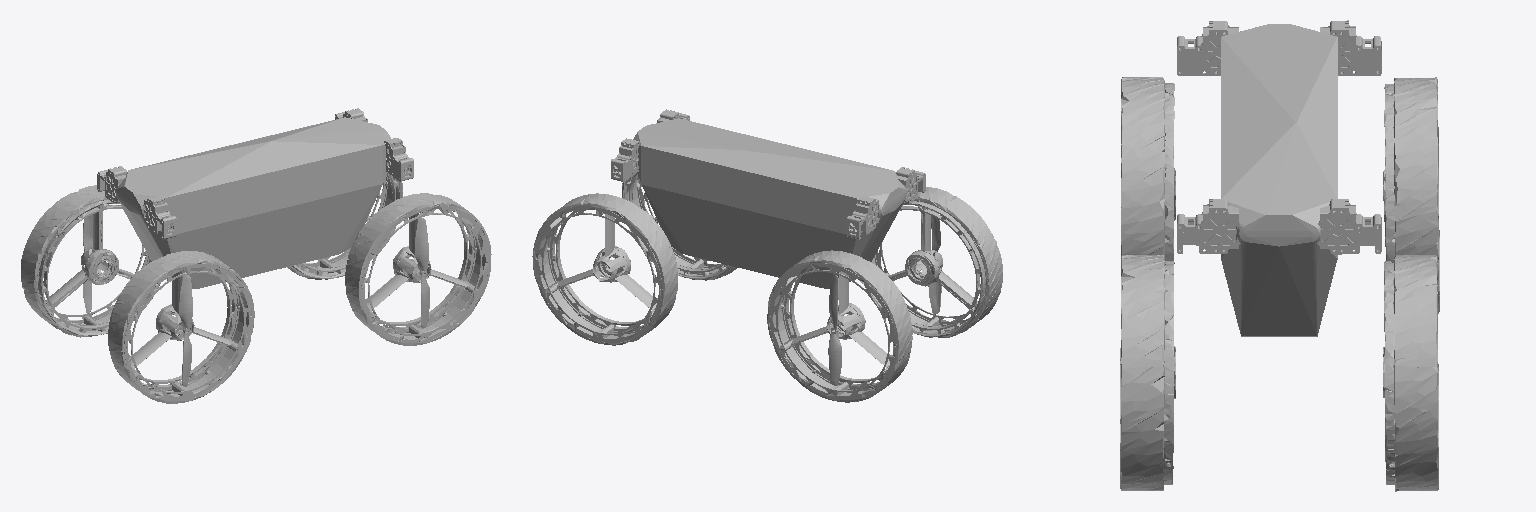
--- Render facts (derived) ---
3 views of the same robot in one strip: view 1: azimuth 30°, elevation 25°; view 2: azimuth 150°, elevation 25°; view 3: azimuth 270°, elevation 25° (orthographic).
Robot: m4assembly — 23 links, 22 joints (4 revolute, 8 continuous, 10 fixed); root link base_link; default pose: every joint at zero.
Visible links, largest first — view 1: base_link, rear_right_wheel, front_right_wheel, rear_left_wheel, front_left_wheel, rear_right_blade, front_right_blade, rear_right_hip, front_right_hip, rear_left_hip, rear_left_blade; view 2: base_link, front_left_wheel, rear_left_wheel, rear_right_wheel, front_right_wheel, rear_left_blade, rear_left_hip, front_left_hip, rear_right_hip, rear_right_blade; view 3: base_link, front_left_wheel, front_right_wheel, rear_left_wheel, rear_right_wheel, front_left_hip, front_right_hip, rear_left_hip, rear_right_hip.
Link boxes in pixels (<box>): base_link: <box>116,117,390,288</box>; rear_right_wheel: <box>108,251,254,403</box>; front_right_wheel: <box>345,193,491,345</box>; rear_left_wheel: <box>21,185,160,337</box>; front_left_wheel: <box>287,172,402,279</box>; rear_right_blade: <box>179,275,192,386</box>; front_right_blade: <box>415,217,429,327</box>; rear_right_hip: <box>143,196,176,239</box>; front_right_hip: <box>384,138,413,181</box>; rear_left_hip: <box>97,166,126,202</box>; rear_left_blade: <box>83,214,92,313</box>; base_link: <box>633,118,906,288</box>; front_left_wheel: <box>532,193,677,345</box>; rear_left_wheel: <box>767,250,912,402</box>; rear_right_wheel: <box>864,187,1002,337</box>; front_right_wheel: <box>622,173,737,280</box>; rear_left_blade: <box>828,274,841,385</box>; rear_left_hip: <box>846,196,879,239</box>; front_left_hip: <box>611,138,639,181</box>; rear_right_hip: <box>896,167,925,203</box>; rear_right_blade: <box>928,210,941,314</box>; base_link: <box>1221,24,1337,336</box>; front_left_wheel: <box>1383,255,1438,491</box>; front_right_wheel: <box>1120,255,1175,490</box>; rear_left_wheel: <box>1383,77,1439,313</box>; rear_right_wheel: <box>1121,77,1175,260</box>; front_left_hip: <box>1317,199,1381,254</box>; front_right_hip: <box>1177,199,1240,253</box>; rear_left_hip: <box>1320,20,1381,75</box>; rear_right_hip: <box>1177,21,1238,75</box>.
Bounding box of the posed robot: 0.6978 × 0.3389 × 0.3329 m (x, y, z).
12 mesh visuals loaded from 18 distinct referenced files (12 binary STL); not drawn: 7 (reference not matched to a file when rendering).

URDF robot description (m4assembly):
<?xml version="1.0" encoding="utf-8"?>
<!-- This URDF was automatically created by SolidWorks to URDF Exporter! Originally created by Stephen Brawner ([email redacted]) 
     Commit Version: 1.6.0-4-g7f85cfe  Build Version: 1.6.7995.38578
     For more information, please see http://wiki.ros.org/sw_urdf_exporter -->
<robot
  name="m4assembly">
  <link
    name="base_link">
    <inertial>
      <origin
        xyz="0.00014012 -1.2866E-05 -0.067235"
        rpy="0 0 0" />
      <mass
        value="1.054" />
      <inertia
        ixx="0.00066925"
        ixy="-1.7138E-07"
        ixz="8.4179E-07"
        iyy="0.0060916"
        iyz="-5.4732E-08"
        izz="0.006372" />
    </inertial>
    <visual>
      <origin
        xyz="0 0 0"
        rpy="0 0 0" />
      <geometry>
        <mesh
          filename="package://simulation_world/meshes/base_link.STL" />
      </geometry>
      <material
        name="">
        <color
          rgba="0.75294 0.75294 0.75294 1" />
      </material>
    </visual>
    <collision>
      <origin
        xyz="0 0 0"
        rpy="0 0 0" />
      <geometry>
        <mesh
          filename="package://simulation_world/meshes/col/base_link.STL" />
      </geometry>
    </collision>
  </link>
  <link
    name="rear_left_hip">
    <inertial>
      <origin
        xyz="0.032048263261567 0.00148857273521091 0.000801285389170403"
        rpy="0 0 0" />
      <mass
        value="0.0631744337027232" />
      <inertia
        ixx="1.00187470871694E-05"
        ixy="1.26346518144828E-06"
        ixz="-1.71088892144535E-13"
        iyy="1.47423630145446E-05"
        iyz="-3.33426314544602E-14"
        izz="2.18314090226691E-05" />
    </inertial>
    <visual>
      <origin
        xyz="0 0 0"
        rpy="0 0 0" />
      <geometry>
        <mesh
          filename="package://simulation_world/meshes/rear_left_hip.STL" />
      </geometry>
      <material
        name="">
        <color
          rgba="0.752941176470588 0.752941176470588 0.752941176470588 1" />
      </material>
    </visual>
    <collision>
      <origin
        xyz="0 0 0"
        rpy="0 0 0" />
      <geometry>
        <mesh
          filename="package://simulation_world/meshes/col/rear_left_hip.STL" />
      </geometry>
    </collision>
  </link>
  <joint
    name="rear_left_hip_joint"
    type="revolute">
    <origin
      xyz="-0.2231 0.0323 -0.02605"
      rpy="1.5708 -0.0099006 1.5708" />
    <parent
      link="base_link" />
    <child
      link="rear_left_hip" />
    <axis
      xyz="0 0 1" />
    <limit
      lower="0"
      upper="1.571"
      effort="10.5"
      velocity="1.57" />
  </joint>
  <link
    name="rear_left_leg">
    <inertial>
      <origin
        xyz="-3.41455978458693E-06 0.0865094820933296 -0.00425258484840052"
        rpy="0 0 0" />
      <mass
        value="0.208886814057311" />
      <inertia
        ixx="7.70084638154863E-05"
        ixy="9.13752456418355E-09"
        ixz="3.41558069671286E-07"
        iyy="5.22430908180149E-05"
        iyz="-3.49227338347394E-08"
        izz="5.21652155907927E-05" />
    </inertial>
    <visual>
      <origin
        xyz="0 0 0"
        rpy="0 0 0" />
      <geometry>
        <mesh
          filename="package://simulation_world/meshes/rear_left_leg.STL" />
      </geometry>
      <material
        name="">
        <color
          rgba="0.752941176470588 0.752941176470588 0.752941176470588 1" />
      </material>
    </visual>
    <collision>
      <origin
        xyz="0 0 0"
        rpy="0 0 0" />
      <geometry>
        <mesh
          filename="package://simulation_world/meshes/col/rear_left_leg.STL" />
      </geometry>
    </collision>
  </link>
  <joint
    name="rear_left_leg_joint"
    type="fixed">
    <origin
      xyz="0.0611 -0.006895 -5E-05"
      rpy="1.5708 -1.5526 1.5708" />
    <parent
      link="rear_left_hip" />
    <child
      link="rear_left_leg" />
    <axis
      xyz="0 0 -1" />
  </joint>
  <link
    name="rear_left_wheel">
    <inertial>
      <origin
        xyz="-1.2835011736767E-06 2.34490590667047E-07 -0.0298825868697071"
        rpy="0 0 0" />
      <mass
        value="0.447367748033206" />
      <inertia
        ixx="0.00104268899323013"
        ixy="-3.91603340525233E-08"
        ixz="3.60415118706037E-11"
        iyy="0.00104263881447407"
        iyz="-3.26123864995785E-11"
        izz="0.00200352361648073" />
    </inertial>
    <visual>
      <origin
        xyz="0 0 0"
        rpy="0 0 0" />
      <geometry>
        <mesh
          filename="package://simulation_world/meshes/rear_left_wheel.STL" />
      </geometry>
      <material
        name="">
        <color
          rgba="0.752941176470588 0.752941176470588 0.752941176470588 1" />
      </material>
    </visual>
    <collision>
      <origin
        xyz="0 0 0"
        rpy="0 0 0" />
      <geometry>
        <mesh
          filename="package://simulation_world/meshes/col/rear_left_wheel.STL" />
      </geometry>
    </collision>
  </link>
  <joint
    name="rear_left_wheel_joint"
    type="continuous">
    <origin
      xyz="0 0.162 0.011129"
      rpy="-3.1416 0 0.018227" />
    <parent
      link="rear_left_leg" />
    <child
      link="rear_left_wheel" />
    <axis
      xyz="0 0 -1" />
    <limit
      effort="200"
      velocity="200" />
  </joint>
  <link
    name="rear_left_blade">
    <inertial>
      <origin
        xyz="-3.30314530727627E-08 -8.23060748793014E-05 0.0082946342231609"
        rpy="0 0 0" />
      <mass
        value="0.00610274937825579" />
      <inertia
        ixx="4.75952063199721E-06"
        ixy="-3.96883337183772E-08"
        ixz="-3.93240380060884E-10"
        iyy="1.57361545543065E-07"
        iyz="-4.65846533883739E-08"
        izz="4.86189149512478E-06" />
    </inertial>
    <visual>
      <origin
        xyz="0 0 0"
        rpy="0 0 0" />
      <geometry>
        <mesh
          filename="package://simulation_world/meshes/rear_left_blade.STL" />
      </geometry>
      <material
        name="">
        <color
          rgba="0.752941176470588 0.752941176470588 0.752941176470588 1" />
      </material>
    </visual>
    <collision>
      <origin
        xyz="0 0 0"
        rpy="0 0 0" />
      <geometry>
        <mesh
          filename="package://simulation_world/meshes/col/rear_left_blade.STL" />
      </geometry>
    </collision>
  </link>
  <joint
    name="rear_left_blade_joint"
    type="continuous">
    <origin
      xyz="0 0.162 0.061129"
      rpy="-0.0099006 0 0.018227" />
    <parent
      link="rear_left_leg" />
    <child
      link="rear_left_blade" />
    <axis
      xyz="0 -0.0099004 0.99995" />
    <limit
      effort="200"
      velocity="200" />
  </joint>
  <link
    name="rear_right_hip">
    <inertial>
      <origin
        xyz="0.0320482634870919 0.00148857274187802 -0.000820989548367512"
        rpy="0 0 0" />
      <mass
        value="0.0631744341018766" />
      <inertia
        ixx="1.00187470810585E-05"
        ixy="1.26346518895748E-06"
        ixz="-1.58209935155058E-13"
        iyy="1.47423629783338E-05"
        iyz="-2.99342928986296E-14"
        izz="2.18314089935792E-05" />
    </inertial>
    <visual>
      <origin
        xyz="0 0 0"
        rpy="0 0 0" />
      <geometry>
        <mesh
          filename="package://simulation_world/meshes/rear_right_hip.STL" />
      </geometry>
      <material
        name="">
        <color
          rgba="0.752941176470588 0.752941176470588 0.752941176470588 1" />
      </material>
    </visual>
    <collision>
      <origin
        xyz="0 0 0"
        rpy="0 0 0" />
      <geometry>
        <mesh
          filename="package://simulation_world/meshes/col/rear_right_hip.STL" />
      </geometry>
    </collision>
  </link>
  <joint
    name="rear_right_hip_joint"
    type="revolute">
    <origin
      xyz="-0.2235 -0.0323 -0.02605"
      rpy="1.5708 -0.0032479 -1.5708" />
    <parent
      link="base_link" />
    <child
      link="rear_right_hip" />
    <axis
      xyz="0 0 1" />
    <limit
      lower="0"
      upper="1.571"
      effort="10.5"
      velocity="1.57" />
  </joint>
  <link
    name="rear_right_leg">
    <inertial>
      <origin
        xyz="3.41455156416259E-06 0.0865094821571721 0.00425258483326613"
        rpy="0 0 0" />
      <mass
        value="0.208886814304404" />
      <inertia
        ixx="7.70084638389827E-05"
        ixy="-9.13752631729426E-09"
        ixz="3.41558058672973E-07"
        iyy="5.22430908411789E-05"
        iyz="3.49227166953638E-08"
        izz="5.21652156031499E-05" />
    </inertial>
    <visual>
      <origin
        xyz="0 0 0"
        rpy="0 0 0" />
      <geometry>
        <mesh
          filename="package://simulation_world/meshes/rear_right_leg.STL" />
      </geometry>
      <material
        name="">
        <color
          rgba="0.752941176470588 0.752941176470588 0.752941176470588 1" />
      </material>
    </visual>
    <collision>
      <origin
        xyz="0 0 0"
        rpy="0 0 0" />
      <geometry>
        <mesh
          filename="package://simulation_world/meshes/col/rear_right_leg.STL" />
      </geometry>
    </collision>
  </link>
  <joint
    name="rear_right_leg_joint"
    type="fixed">
    <origin
      xyz="0.0611 -0.006895 0"
      rpy="3.1416 1.5708 0" />
    <parent
      link="rear_right_hip" />
    <child
      link="rear_right_leg" />
    <axis
      xyz="0 0 1" />
  </joint>
  <link
    name="rear_right_wheel">
    <inertial>
      <origin
        xyz="-1.78659846361562E-08 -2.01874887645337E-06 0.0255799203790625"
        rpy="0 0 0" />
      <mass
        value="0.447367750743676" />
      <inertia
        ixx="0.0010426206896193"
        ixy="-2.73561891555305E-10"
        ixz="3.48030847023143E-11"
        iyy="0.00104270712224184"
        iyz="3.22928670574781E-11"
        izz="0.00200352362095162" />
    </inertial>
    <visual>
      <origin
        xyz="0 0 0"
        rpy="0 0 0" />
      <geometry>
        <mesh
          filename="package://simulation_world/meshes/rear_right_wheel.STL" />
      </geometry>
      <material
        name="">
        <color
          rgba="0.752941176470588 0.752941176470588 0.752941176470588 1" />
      </material>
    </visual>
    <collision>
      <origin
        xyz="0 0 0"
        rpy="0 0 0" />
      <geometry>
        <mesh
          filename="package://simulation_world/meshes/col/rear_right_wheel.STL" />
      </geometry>
    </collision>
  </link>
  <joint
    name="rear_right_wheel_joint"
    type="continuous">
    <origin
      xyz="0 0.162 -0.015431"
      rpy="3.1416 0 0" />
    <parent
      link="rear_right_leg" />
    <child
      link="rear_right_wheel" />
    <axis
      xyz="0 0 -1" />
    <limit
      effort="200"
      velocity="200" />
  </joint>
  <link
    name="rear_right_blade">
    <inertial>
      <origin
        xyz="2.93887484903443E-08 6.79423276528368E-08 0.00399237045178649"
        rpy="0 0 0" />
      <mass
        value="0.00610270077025495" />
      <inertia
        ixx="4.75712306507452E-06"
        ixy="-1.12007295746605E-07"
        ixz="2.24623999105101E-13"
        iyy="1.59284414569248E-07"
        iyz="3.54828245352755E-13"
        izz="4.86233952224275E-06" />
    </inertial>
    <visual>
      <origin
        xyz="0 0 0"
        rpy="0 0 0" />
      <geometry>
        <mesh
          filename="package://simulation_world/meshes/rear_right_blade.STL" />
      </geometry>
      <material
        name="">
        <color
          rgba="0.752941176470588 0.752941176470588 0.752941176470588 1" />
      </material>
    </visual>
    <collision>
      <origin
        xyz="0 0 0"
        rpy="0 0 0" />
      <geometry>
        <mesh
          filename="package://simulation_world/meshes/col/rear_right_blade.STL" />
      </geometry>
    </collision>
  </link>
  <joint
    name="rear_right_blade_joint"
    type="continuous">
    <origin
      xyz="0 0.162 -0.065431"
      rpy="3.1416 0 0" />
    <parent
      link="rear_right_leg" />
    <child
      link="rear_right_blade" />
    <axis
      xyz="0 0 1" />
    <limit
      effort="200"
      velocity="200" />
  </joint>
  <link
    name="front_left_hip">
    <inertial>
      <origin
        xyz="0.0320482633471696 0.00148857273674285 0.00169341200883941"
        rpy="0 0 0" />
      <mass
        value="0.0631744338743183" />
      <inertia
        ixx="1.00187470896772E-05"
        ixy="1.26346518496343E-06"
        ixz="-1.75127210359815E-13"
        iyy="1.474236301921E-05"
        iyz="-3.22758580937248E-14"
        izz="2.18314090243211E-05" />
    </inertial>
    <visual>
      <origin
        xyz="0 0 0"
        rpy="0 0 0" />
      <geometry>
        <mesh
          filename="package://simulation_world/meshes/front_left_hip.STL" />
      </geometry>
      <material
        name="">
        <color
          rgba="0.752941176470588 0.752941176470588 0.752941176470588 1" />
      </material>
    </visual>
    <collision>
      <origin
        xyz="0 0 0"
        rpy="0 0 0" />
      <geometry>
        <mesh
          filename="package://simulation_world/meshes/col/front_left_hip.STL" />
      </geometry>
    </collision>
  </link>
  <joint
    name="front_left_hip_joint"
    type="revolute">
    <origin
      xyz="0.22099 0.0323 -0.02605"
      rpy="1.5708 -0.006693 1.5708" />
    <parent
      link="base_link" />
    <child
      link="front_left_hip" />
    <axis
      xyz="0 0 1" />
    <limit
      lower="0"
      upper="1.571"
      effort="10.5"
      velocity="1.57" />
  </joint>
  <link
    name="front_left_leg">
    <inertial>
      <origin
        xyz="-3.41455576607095E-06 0.0865094821265606 -0.00425258483916741"
        rpy="0 0 0" />
      <mass
        value="0.208886814202469" />
      <inertia
        ixx="7.70084638282559E-05"
        ixy="9.13752541336675E-09"
        ixz="3.41558064254658E-07"
        iyy="5.22430908306995E-05"
        iyz="-3.49227240782923E-08"
        izz="5.21652155975951E-05" />
    </inertial>
    <visual>
      <origin
        xyz="0 0 0"
        rpy="0 0 0" />
      <geometry>
        <mesh
          filename="package://simulation_world/meshes/front_left_leg.STL" />
      </geometry>
      <material
        name="">
        <color
          rgba="0.752941176470588 0.752941176470588 0.752941176470588 1" />
      </material>
    </visual>
    <collision>
      <origin
        xyz="0 0 0"
        rpy="0 0 0" />
      <geometry>
        <mesh
          filename="package://simulation_world/meshes/col/front_left_leg.STL" />
      </geometry>
    </collision>
  </link>
  <joint
    name="front_left_leg_joint"
    type="fixed">
    <origin
      xyz="0.0611 -0.006895 0.0025144"
      rpy="-1.5708 -1.5708 -1.5708" />
    <parent
      link="front_left_hip" />
    <child
      link="front_left_leg" />
    <axis
      xyz="0 0 -1" />
  </joint>
  <link
    name="front_left_wheel">
    <inertial>
      <origin
        xyz="1.77235233511999E-08 -2.01879895370127E-06 -0.0284894545323338"
        rpy="0 0 0" />
      <mass
        value="0.447367750292981" />
      <inertia
        ixx="0.00104262069065618"
        ixy="2.74220212176939E-10"
        ixz="3.54050122778484E-11"
        iyy="0.00104270712119543"
        iyz="-3.25695335683767E-11"
        izz="0.00200352362063109" />
    </inertial>
    <visual>
      <origin
        xyz="0 0 0"
        rpy="0 0 0" />
      <geometry>
        <mesh
          filename="package://simulation_world/meshes/front_left_wheel.STL" />
      </geometry>
      <material
        name="">
        <color
          rgba="0.752941176470588 0.752941176470588 0.752941176470588 1" />
      </material>
    </visual>
    <collision>
      <origin
        xyz="0 0 0"
        rpy="0 0 0" />
      <geometry>
        <mesh
          filename="package://simulation_world/meshes/col/front_left_wheel.STL" />
      </geometry>
    </collision>
  </link>
  <joint
    name="front_left_wheel_joint"
    type="continuous">
    <origin
      xyz="0 0.162 0.012522"
      rpy="3.1416 0 0" />
    <parent
      link="front_left_leg" />
    <child
      link="front_left_wheel" />
    <axis
      xyz="0 0 -1" />
    <limit
      effort="200"
      velocity="200" />
  </joint>
  <link
    name="front_left_blade">
    <inertial>
      <origin
        xyz="-1.18411884182483E-08 -1.5997300897852E-07 0.0069019562259629"
        rpy="0 0 0" />
      <mass
        value="0.0061028301426362" />
      <inertia
        ixx="4.65427221541224E-06"
        ixy="6.89623690398127E-07"
        ixz="-5.02014385573018E-13"
        iyy="2.62287309333734E-07"
        iyz="-7.87853177369262E-13"
        izz="4.86249379657286E-06" />
    </inertial>
    <visual>
      <origin
        xyz="0 0 0"
        rpy="0 0 0" />
      <geometry>
        <mesh
          filename="package://simulation_world/meshes/front_left_blade.STL" />
      </geometry>
      <material
        name="">
        <color
          rgba="0.752941176470588 0.752941176470588 0.752941176470588 1" />
      </material>
    </visual>
    <collision>
      <origin
        xyz="0 0 0"
        rpy="0 0 0" />
      <geometry>
        <mesh
          filename="package://simulation_world/meshes/col/front_left_blade.STL" />
      </geometry>
    </collision>
  </link>
  <joint
    name="front_left_blade_joint"
    type="continuous">
    <origin
      xyz="0 0.162 0.062522"
      rpy="0 0 0" />
    <parent
      link="front_left_leg" />
    <child
      link="front_left_blade" />
    <axis
      xyz="0 0 1" />
    <limit
      effort="200"
      velocity="200" />
  </joint>
  <link
    name="front_right_hip">
    <inertial>
      <origin
        xyz="0.0320482634665248 0.0014885727412563 -0.00131311618414334"
        rpy="0 0 0" />
      <mass
        value="0.0631744340641276" />
      <inertia
        ixx="1.00187470815544E-05"
        ixy="1.26346518823477E-06"
        ixz="-1.57692513882067E-13"
        iyy="1.47423629788781E-05"
        iyz="-2.96148209881054E-14"
        izz="2.18314089943886E-05" />
    </inertial>
    <visual>
      <origin
        xyz="0 0 0"
        rpy="0 0 0" />
      <geometry>
        <mesh
          filename="package://simulation_world/meshes/front_right_hip.STL" />
      </geometry>
      <material
        name="">
        <color
          rgba="0.752941176470588 0.752941176470588 0.752941176470588 1" />
      </material>
    </visual>
    <collision>
      <origin
        xyz="0 0 0"
        rpy="0 0 0" />
      <geometry>
        <mesh
          filename="package://simulation_world/meshes/col/front_right_hip.STL" />
      </geometry>
    </collision>
  </link>
  <joint
    name="front_right_hip_joint"
    type="revolute">
    <origin
      xyz="0.22099 -0.0323 -0.02605"
      rpy="1.5708 -0.0046828 -1.5708" />
    <parent
      link="base_link" />
    <child
      link="front_right_hip" />
    <axis
      xyz="0 0 1" />
    <limit
      lower="0"
      upper="1.571"
      effort="10.5"
      velocity="1.57" />
  </joint>
  <link
    name="front_right_leg">
    <inertial>
      <origin
        xyz="3.41455365766163E-06 0.0865094821436897 0.00425258483703411"
        rpy="0 0 0" />
      <mass
        value="0.208886814244098" />
      <inertia
        ixx="7.70084638339796E-05"
        ixy="-9.13752605384622E-09"
        ixz="3.4155806167583E-07"
        iyy="5.2243090836002E-05"
        iyz="3.49227209398553E-08"
        izz="5.21652156003534E-05" />
    </inertial>
    <visual>
      <origin
        xyz="0 0 0"
        rpy="0 0 0" />
      <geometry>
        <mesh
          filename="package://simulation_world/meshes/front_right_leg.STL" />
      </geometry>
      <material
        name="">
        <color
          rgba="0.752941176470588 0.752941176470588 0.752941176470588 1" />
      </material>
    </visual>
    <collision>
      <origin
        xyz="0 0 0"
        rpy="0 0 0" />
      <geometry>
        <mesh
          filename="package://simulation_world/meshes/col/front_right_leg.STL" />
      </geometry>
    </collision>
  </link>
  <joint
    name="front_right_leg_joint"
    type="fixed">
    <origin
      xyz="0.0611 -0.006895 -0.0021644"
      rpy="1.5708 1.5656 -1.5708" />
    <parent
      link="front_right_hip" />
    <child
      link="front_right_leg" />
    <axis
      xyz="0 0 1" />
    <limit
      lower="-0.5"
      upper="0.5"
      effort="10.5"
      velocity="1.57" />
  </joint>
  <link
    name="front_right_wheel">
    <inertial>
      <origin
        xyz="1.28310223720821E-06 2.3448596928044E-07 0.0255837574129385"
        rpy="0 0 0" />
      <mass
        value="0.447367750640603" />
      <inertia
        ixx="0.00104268899474349"
        ixy="3.91619025865096E-08"
        ixz="3.50659148166867E-11"
        iyy="0.00104263881744075"
        iyz="3.24293757397963E-11"
        izz="0.00200352362110246" />
    </inertial>
    <visual>
      <origin
        xyz="0 0 0"
        rpy="0 0 0" />
      <geometry>
        <mesh
          filename="package://simulation_world/meshes/front_right_wheel.STL" />
      </geometry>
      <material
        name="">
        <color
          rgba="0.752941176470588 0.752941176470588 0.752941176470588 1" />
      </material>
    </visual>
    <collision>
      <origin
        xyz="0 0 0"
        rpy="0 0 0" />
      <geometry>
        <mesh
          filename="package://simulation_world/meshes/col/front_right_wheel.STL" />
      </geometry>
    </collision>
  </link>
  <joint
    name="front_right_wheel_joint"
    type="continuous">
    <origin
      xyz="0 0.162 -0.015427"
      rpy="-3.1416 0 -0.0052077" />
    <parent
      link="front_right_leg" />
    <child
      link="front_right_wheel" />
    <axis
      xyz="0 0 -1" />
    <limit
      effort="200"
      velocity="200" />
  </joint>
  <link
    name="front_right_blade">
    <inertial>
      <origin
        xyz="6.96858681763831E-08 7.67517420813268E-07 0.0039962219905107"
        rpy="0 0 0" />
      <mass
        value="0.00610290216434297" />
      <inertia
        ixx="4.75885051711651E-06"
        ixy="7.08408517084622E-08"
        ixz="-8.40829933326352E-14"
        iyy="1.57650099061995E-07"
        iyz="8.23720329397051E-13"
        izz="4.86243263794242E-06" />
    </inertial>
    <visual>
      <origin
        xyz="0 0 0"
        rpy="0 0 0" />
      <geometry>
        <mesh
          filename="package://simulation_world/meshes/front_right_blade.STL" />
      </geometry>
      <material
        name="">
        <color
          rgba="0.752941176470588 0.752941176470588 0.752941176470588 1" />
      </material>
    </visual>
    <collision>
      <origin
        xyz="0 0 0"
        rpy="0 0 0" />
      <geometry>
        <mesh
          filename="package://simulation_world/meshes/col/front_right_blade.STL" />
      </geometry>
    </collision>
  </link>
  <joint
    name="front_right_blade_joint"
    type="continuous">
    <origin
      xyz="0 0.162 -0.065427"
      rpy="-3.1416 0 -0.0052077" />
    <parent
      link="front_right_leg" />
    <child
      link="front_right_blade" />
    <axis
      xyz="0 0 1" />
    <limit
      effort="200"
      velocity="200" />
  </joint>

    <link name="front_realsense" />

  <!--
    The gazebo plugin aligns the depth data with the Z axis, with X=left and Y=up
    ROS expects the depth data along the X axis, with Y=left and Z=up
    This link only exists to give the gazebo plugin the correctly-oriented frame
  -->
  <link name="front_realsense_gazebo" />
  <joint name="front_realsense_gazebo_joint" type="fixed">
    <parent link="front_realsense"/>
    <child link="front_realsense_gazebo"/>
    <origin xyz="0.0 0 0" rpy="-1.5707963267948966 0 -1.5707963267948966"/>
  </joint>

  <gazebo reference="front_realsense">
    <turnGravityOff>true</turnGravityOff>
    <sensor type="depth" name="front_realsense_depth">
      <update_rate>30</update_rate>
      <camera>
        <!-- 75x65 degree FOV for the depth sensor -->
        <horizontal_fov>1.5184351666666667</horizontal_fov>
        <vertical_fov>1.0122901111111111</vertical_fov>

        <image>
          <width>640</width>
          <height>480</height>
          <format>R8G8B8</format>
        </image>
        <clip>
          <!-- give the color sensor a maximum range of 50m so that the simulation renders nicely -->
          <near>0.01</near>
          <far>10.0</far>
        </clip>
      </camera>
      <plugin name="kinect_controller" filename="libgazebo_ros_openni_kinect.so">
        <baseline>0.2</baseline>
        <alwaysOn>true</alwaysOn>
        <updateRate>30</updateRate>
        <cameraName>realsense</cameraName>
        <imageTopicName>color/image_raw</imageTopicName>
        <cameraInfoTopicName>color/camera_info</cameraInfoTopicName>
        <depthImageTopicName>depth/image_rect_raw</depthImageTopicName>
        <depthImageInfoTopicName>depth/camera_info</depthImageInfoTopicName>
        <pointCloudTopicName>depth/color/points</pointCloudTopicName>
        <frameName>front_realsense_gazebo</frameName>
        <pointCloudCutoff>0.105</pointCloudCutoff>
        <pointCloudCutoffMax>5.0</pointCloudCutoffMax>
        <distortionK1>0.00000001</distortionK1>
        <distortionK2>0.00000001</distortionK2>
        <distortionK3>0.00000001</distortionK3>
        <distortionT1>0.00000001</distortionT1>
        <distortionT2>0.00000001</distortionT2>
        <CxPrime>0</CxPrime>
        <Cx>0</Cx>
        <Cy>0</Cy>
        <focalLength>0</focalLength>
        <hackBaseline>0</hackBaseline>
      </plugin>
    </sensor>
  </gazebo>

  <link name="front_realsense_lens">
    <visual>
      <origin xyz="0.02 0 0" rpy="1.5707963267948966 0 1.5707963267948966" />
      <geometry>
        <mesh filename="package://realsense2_description/meshes/d435.dae" />
      </geometry>
      <material
        name="">
        <color
          rgba="0.75294 0.75294 0.75294 1" />
      </material>
    </visual>
  </link>

  <joint type="fixed" name="front_realsense_lens_joint">
    <!-- Offset the camera 2cm backwards and 1cm up -->
    <origin xyz="0.24099 0 0" rpy="0 0 0" />
    <parent link="base_link" />
    <child link="front_realsense_lens" />
  </joint>
  <joint type="fixed" name="front_realsense_joint">
    <origin xyz="0.025 0 0" rpy="0 0 0" />
    <parent link="front_realsense_lens" />
    <child link="front_realsense" />
  </joint>
  
<link name="rear_realsense" />

  <!--
    The gazebo plugin aligns the depth data with the Z axis, with X=left and Y=up
    ROS expects the depth data along the X axis, with Y=left and Z=up
    This link only exists to give the gazebo plugin the correctly-oriented frame
  -->
  <link name="rear_realsense_gazebo" />
  <joint name="rear_realsense_gazebo_joint" type="fixed">
    <parent link="rear_realsense"/>
    <child link="rear_realsense_gazebo"/>
    <origin xyz="0.0 0 0" rpy="-1.5707963267948966 0 -1.5707963267948966"/>
  </joint>

  <gazebo reference="rear_realsense">
    <turnGravityOff>true</turnGravityOff>
    <sensor type="depth" name="rear_realsense_depth">
      <update_rate>30</update_rate>
      <camera>
        <!-- 75x65 degree FOV for the depth sensor -->
        <horizontal_fov>1.5184351666666667</horizontal_fov>
        <vertical_fov>1.0122901111111111</vertical_fov>

        <image>
          <width>640</width>
          <height>480</height>
          <format>R8G8B8</format>
        </image>
        <clip>
          <!-- give the color sensor a maximum range of 50m so that the simulation renders nicely -->
          <near>0.01</near>
          <far>10.0</far>
        </clip>
      </camera>
      <plugin name="kinect_controller" filename="libgazebo_ros_openni_kinect.so">
        <baseline>0.2</baseline>
        <alwaysOn>true</alwaysOn>
        <updateRate>30</updateRate>
        <cameraName>realsense2</cameraName>
        <imageTopicName>color/image_raw</imageTopicName>
        <cameraInfoTopicName>color/camera_info</cameraInfoTopicName>
        <depthImageTopicName>depth/image_rect_raw</depthImageTopicName>
        <depthImageInfoTopicName>depth/camera_info</depthImageInfoTopicName>
        <pointCloudTopicName>depth/color/points</pointCloudTopicName>
        <frameName>rear_realsense_gazebo</frameName>
        <pointCloudCutoff>0.105</pointCloudCutoff>
        <pointCloudCutoffMax>5.0</pointCloudCutoffMax>
        <distortionK1>0.00000001</distortionK1>
        <distortionK2>0.00000001</distortionK2>
        <distortionK3>0.00000001</distortionK3>
        <distortionT1>0.00000001</distortionT1>
        <distortionT2>0.00000001</distortionT2>
        <CxPrime>0</CxPrime>
        <Cx>0</Cx>
        <Cy>0</Cy>
        <focalLength>0</focalLength>
        <hackBaseline>0</hackBaseline>
      </plugin>
    </sensor>
  </gazebo>

  <link name="rear_realsense_lens">
    <visual>
      <origin xyz="0.02 0 0" rpy="1.5707963267948966 0 1.5707963267948966" />
      <geometry>
        <mesh filename="package://realsense2_description/meshes/d435.dae" />
      </geometry>
      <material
        name="">
        <color
          rgba="0.75294 0.75294 0.75294 1" />
      </material>
    </visual>
  </link>

  <joint type="fixed" name="rear_realsense_lens_joint">
    <!-- Offset the camera 2cm backwards and 1cm up -->
    <origin xyz="-0.24099 0 0" rpy="0 0 3.1415926535897932384626433" />
    <parent link="base_link" />
    <child link="rear_realsense_lens" />
  </joint>
  <joint type="fixed" name="rear_realsense_joint">
    <origin xyz="0.025 0 0" rpy="0 0 0" />
    <parent link="rear_realsense_lens" />
    <child link="rear_realsense" />
  </joint>


  <gazebo> 
    <plugin name="p3d_base_controller" filename="libgazebo_ros_p3d.so">
    <alwaysOn>true</alwaysOn>
    <updateRate>50.0</updateRate>
    <bodyName>base_link</bodyName>
    <topicName>my_odom</topicName>
    <gaussianNoise>0.01</gaussianNoise>
    <frameName>world</frameName>
    <xyzOffsets>0 0 0</xyzOffsets>
    <rpyOffsets>0 0 0</rpyOffsets>
    </plugin>
  </gazebo>

<!-- ROS Control plugin for Gazebo -->
  <gazebo>
    <plugin name="gazebo_ros_control" filename="libgazebo_ros_control.so">
      <robotNamespace>/m4assembly</robotNamespace>
    </plugin>
  </gazebo>

  <gazebo>
    <plugin name="gazebo_ros_joint_state_publisher" filename="libgazebo_ros_joint_state_publisher.so">
      <update_rate>20</update_rate>
      <joint_name>front_right_wheel_joint</joint_name>
    </plugin>
  </gazebo>

  <!-- transmission -->
  <transmission name="rl_hip_trans">
    <type>transmission_interface/SimpleTransmission</type>
    <actuator name="motor1">
      <mechanicalReduction>1</mechanicalReduction>
    </actuator>
    <joint name="rear_left_hip_joint">
      <hardwareInterface>hardware_interface/EffortJointInterface</hardwareInterface>
    </joint>
  </transmission>

  <transmission name="rl_wheel_trans">
    <type>transmission_interface/SimpleTransmission</type>
    <actuator name="motor3">
      <mechanicalReduction>1</mechanicalReduction>
    </actuator>
    <joint name="rear_left_wheel_joint">
      <hardwareInterface>hardware_interface/VelocityJointInterface</hardwareInterface>
    </joint>
  </transmission>

  <transmission name="rl_blade_trans">
    <type>transmission_interface/SimpleTransmission</type>
    <actuator name="motor4">
      <mechanicalReduction>1</mechanicalReduction>
    </actuator>
    <joint name="rear_left_blade_joint">
      <hardwareInterface>hardware_interface/EffortJointInterface</hardwareInterface>
    </joint>
  </transmission>

  <transmission name="rr_hip_trans">
    <type>transmission_interface/SimpleTransmission</type>
    <actuator name="motor5">
      <mechanicalReduction>1</mechanicalReduction>
    </actuator>
    <joint name="rear_right_hip_joint">
      <hardwareInterface>hardware_interface/EffortJointInterface</hardwareInterface>
    </joint>
  </transmission>

  <transmission name="rr_wheel_trans">
    <type>transmission_interface/SimpleTransmission</type>
    <actuator name="motor7">
      <mechanicalReduction>1</mechanicalReduction>
    </actuator>
    <joint name="rear_right_wheel_joint">
      <hardwareInterface>hardware_interface/VelocityJointInterface</hardwareInterface>
    </joint>
  </transmission>

  <transmission name="rr_blade_trans">
    <type>transmission_interface/SimpleTransmission</type>
    <actuator name="motor8">
      <mechanicalReduction>1</mechanicalReduction>
    </actuator>
    <joint name="rear_right_blade_joint">
      <hardwareInterface>hardware_interface/EffortJointInterface</hardwareInterface>
    </joint>
  </transmission>

  <transmission name="fl_hip_trans">
    <type>transmission_interface/SimpleTransmission</type>
    <actuator name="motor9">
      <mechanicalReduction>1</mechanicalReduction>
    </actuator>
    <joint name="front_left_hip_joint">
      <hardwareInterface>hardware_interface/EffortJointInterface</hardwareInterface>
    </joint>
  </transmission>

  <transmission name="fl_wheel_trans">
    <type>transmission_interface/SimpleTransmission</type>
    <actuator name="motor11">
      <mechanicalReduction>1</mechanicalReduction>
    </actuator>
    <joint name="front_left_wheel_joint">
      <hardwareInterface>hardware_interface/VelocityJointInterface</hardwareInterface>
    </joint>
  </transmission>

  <transmission name="fl_blade_trans">
    <type>transmission_interface/SimpleTransmission</type>
    <actuator name="motor12">
      <mechanicalReduction>1</mechanicalReduction>
    </actuator>
    <joint name="front_left_blade_joint">
      <hardwareInterface>hardware_interface/EffortJointInterface</hardwareInterface>
    </joint>
  </transmission>

  <transmission name="fr_hip_trans">
    <type>transmission_interface/SimpleTransmission</type>
    <actuator name="motor13">
      <mechanicalReduction>1</mechanicalReduction>
    </actuator>
    <joint name="front_right_hip_joint">
      <hardwareInterface>hardware_interface/EffortJointInterface</hardwareInterface>
    </joint>
  </transmission>

  <transmission name="fr_wheel_trans">
    <type>transmission_interface/SimpleTransmission</type>
    <actuator name="motor15">
      <mechanicalReduction>1</mechanicalReduction>
    </actuator>
    <joint name="front_right_wheel_joint">
      <hardwareInterface>hardware_interface/VelocityJointInterface</hardwareInterface>
    </joint>
  </transmission>

  <transmission name="fr_blade_trans">
    <type>transmission_interface/SimpleTransmission</type>
    <actuator name="motor16">
      <mechanicalReduction>1</mechanicalReduction>
    </actuator>
    <joint name="front_right_blade_joint">
      <hardwareInterface>hardware_interface/EffortJointInterface</hardwareInterface>
    </joint>
  </transmission>

</robot>
